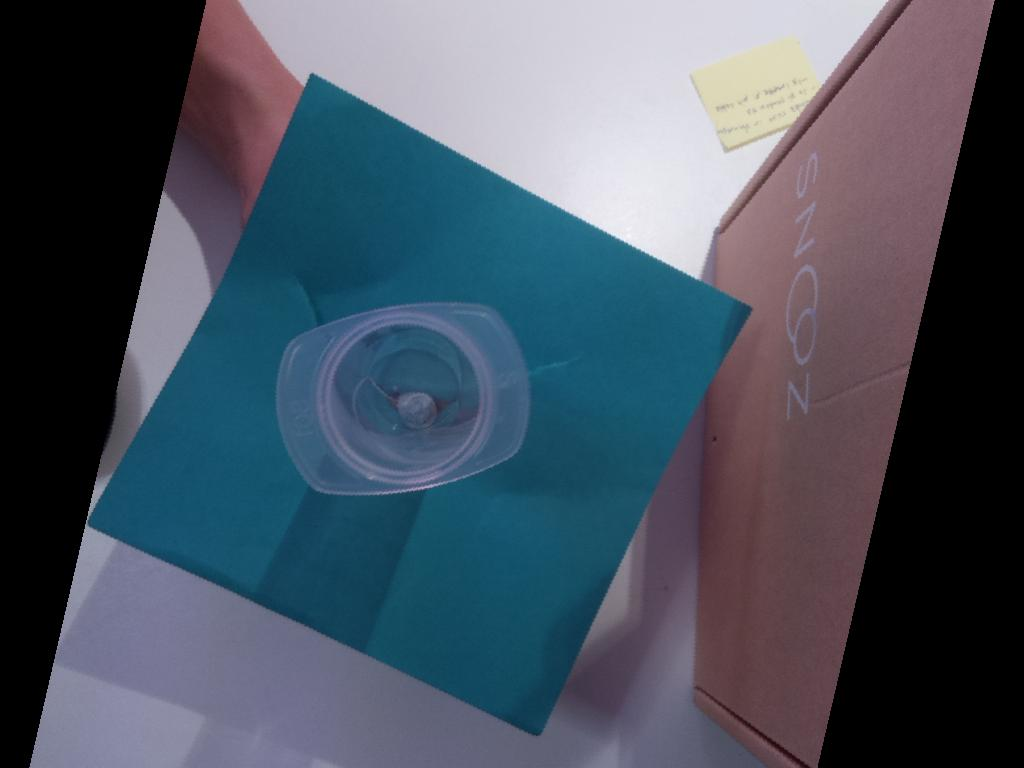clean: (272, 301, 538, 496)
